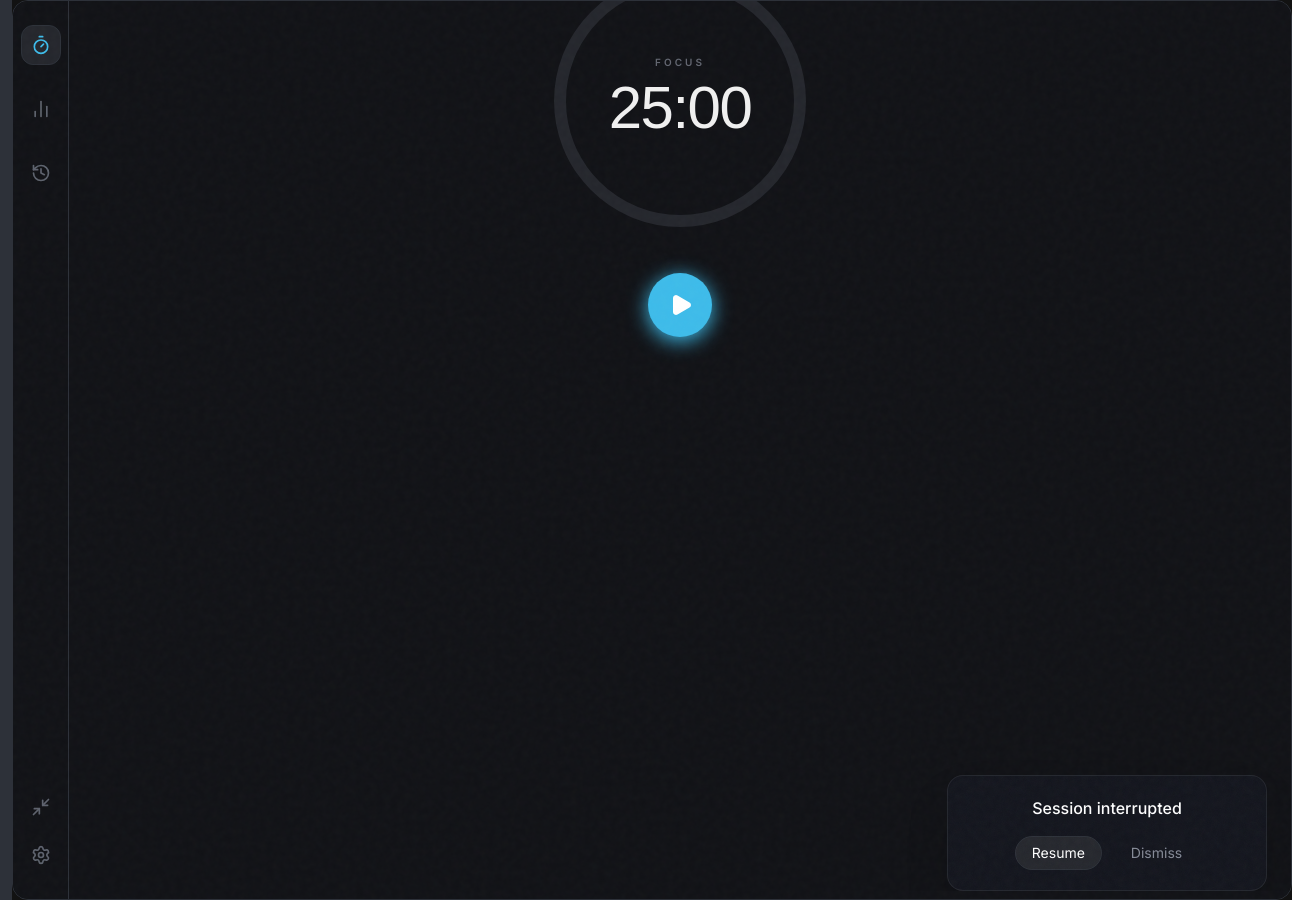
Test: App onboarding flow › offers calm recovery banner on reopen and supports resume or dismiss
(page scrolled)
Expected: the text "Session interrupted" is shown, [1032,798,1182,818]
Click the button "Resume". click: (1058, 853)
box: [1015,836,1102,870]
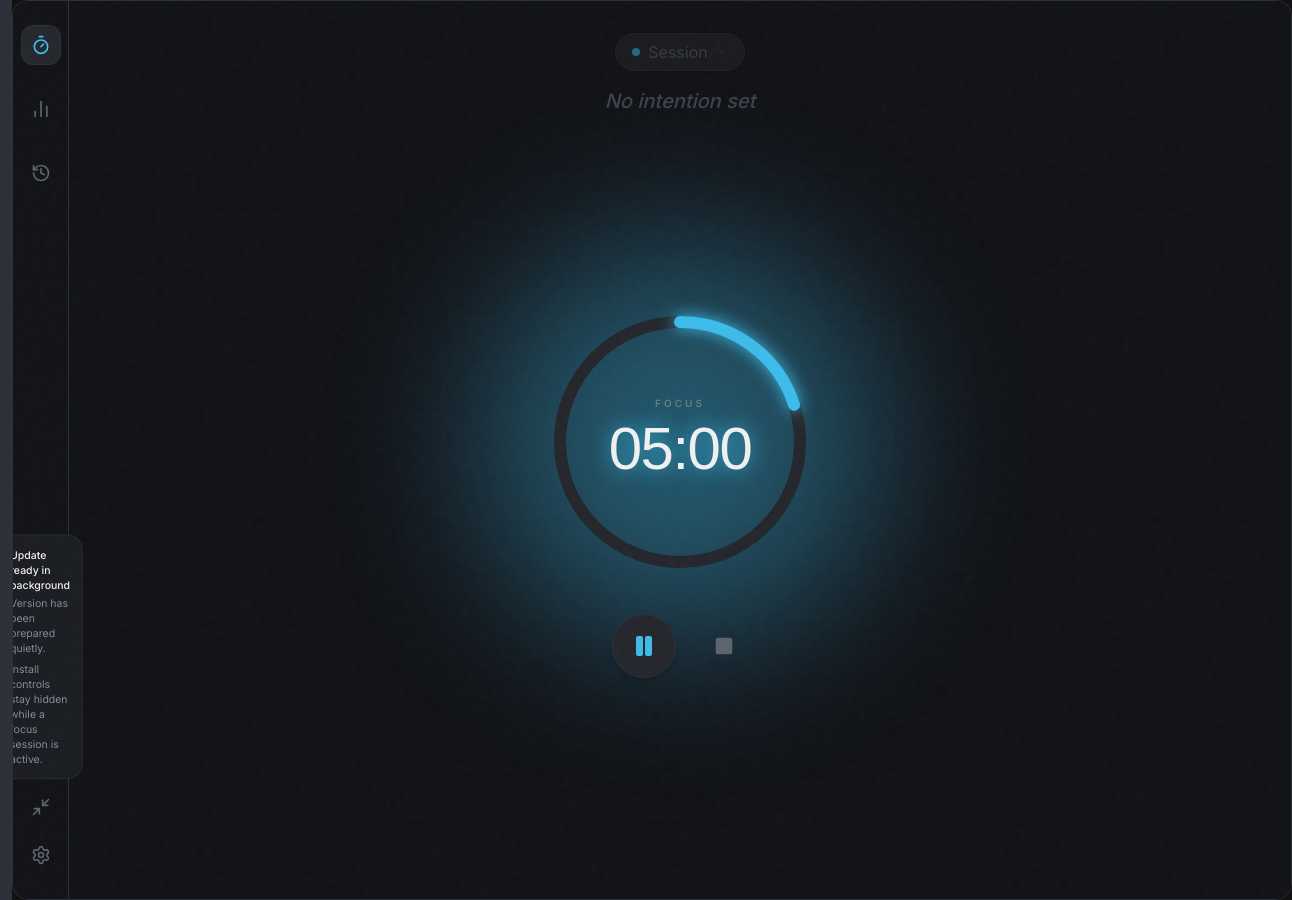
Expected: the button named "pause" is shown, [612,614,676,678]
